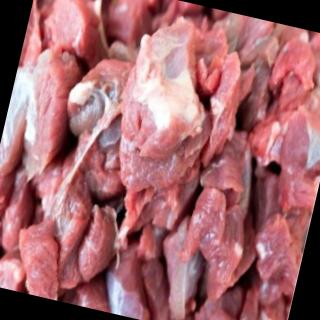Daging Sapi: (1, 1, 320, 320), (115, 12, 224, 164), (10, 48, 86, 187), (61, 49, 141, 155), (184, 190, 254, 294), (5, 217, 76, 302), (247, 211, 311, 298), (98, 241, 167, 320), (203, 47, 253, 155), (75, 203, 126, 288), (40, 1, 107, 57), (1, 169, 43, 251), (267, 34, 320, 97), (197, 155, 252, 201), (100, 1, 155, 45)
